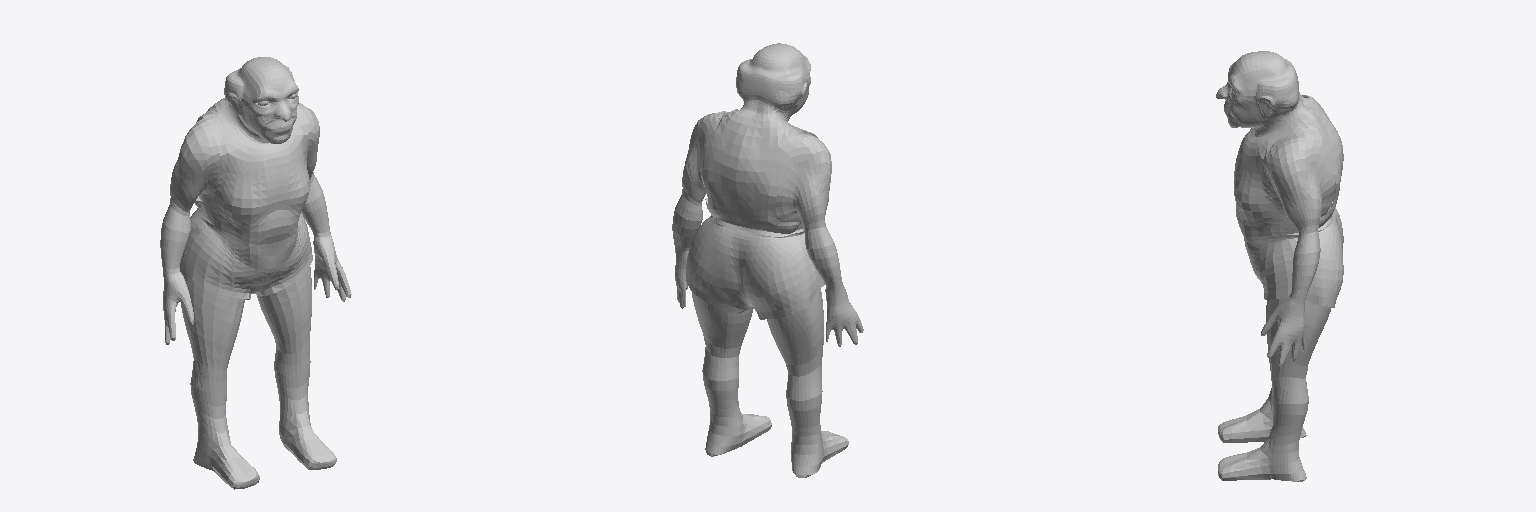
The model's file is old man jenkins.obj.
The picture shows the model from 3 angles: view 1: azimuth 30°, elevation 25°; view 2: azimuth 150°, elevation 25°; view 3: azimuth 270°, elevation 25°; orthographic projection.
Visible parts, largest first — view 1: polySurface8; view 2: polySurface8; view 3: polySurface8.
Part boxes in pixels (bbox=[...]): polySurface8: bbox=[160, 57, 351, 489]; polySurface8: bbox=[672, 43, 863, 477]; polySurface8: bbox=[1216, 51, 1343, 481].
Size of the model in its own units: 84.78 by 181 by 51.94.